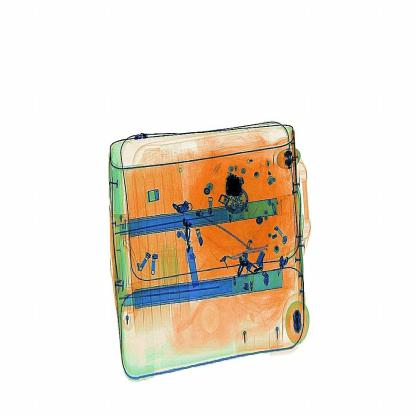scissors: (216, 160, 261, 212)
